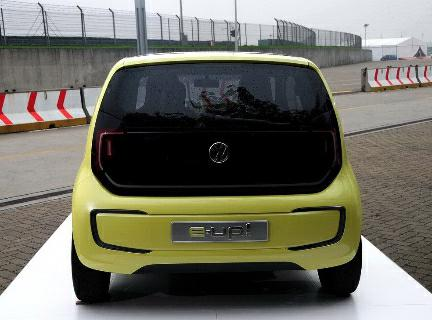大众-e-up!: (62, 45, 371, 310)
